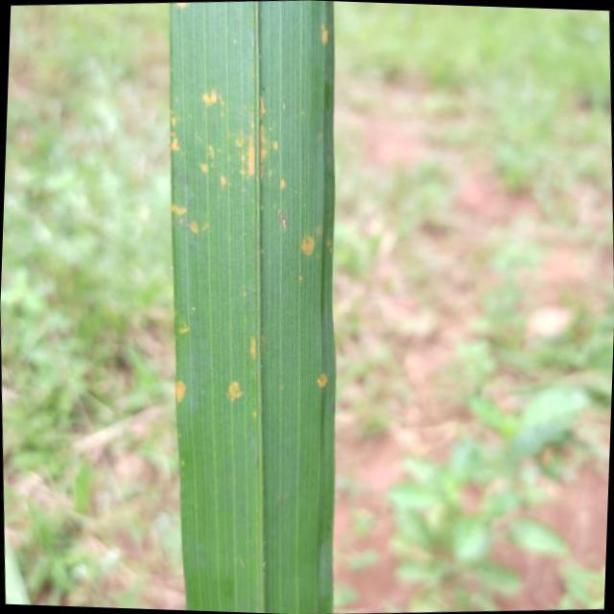Kalium: (168, 0, 334, 614)
